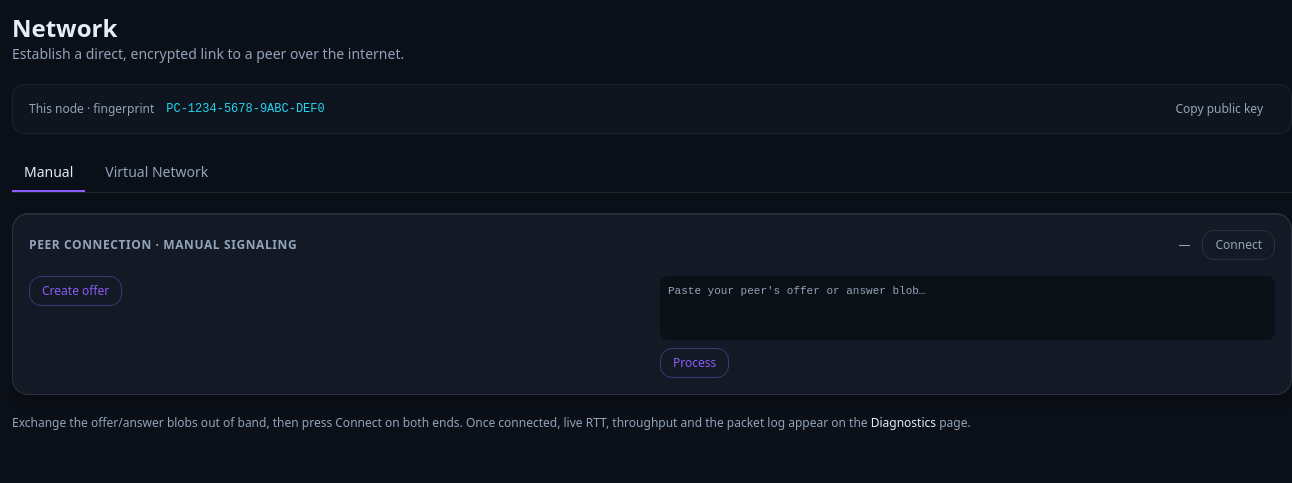
Scenario: Network page › creates an offer and shows the blob
What coordinates should you click on to do the following:
click the button with test id "create-offer-btn"
I would click on:
 (76, 291)
Its box is [29,276,122,306].
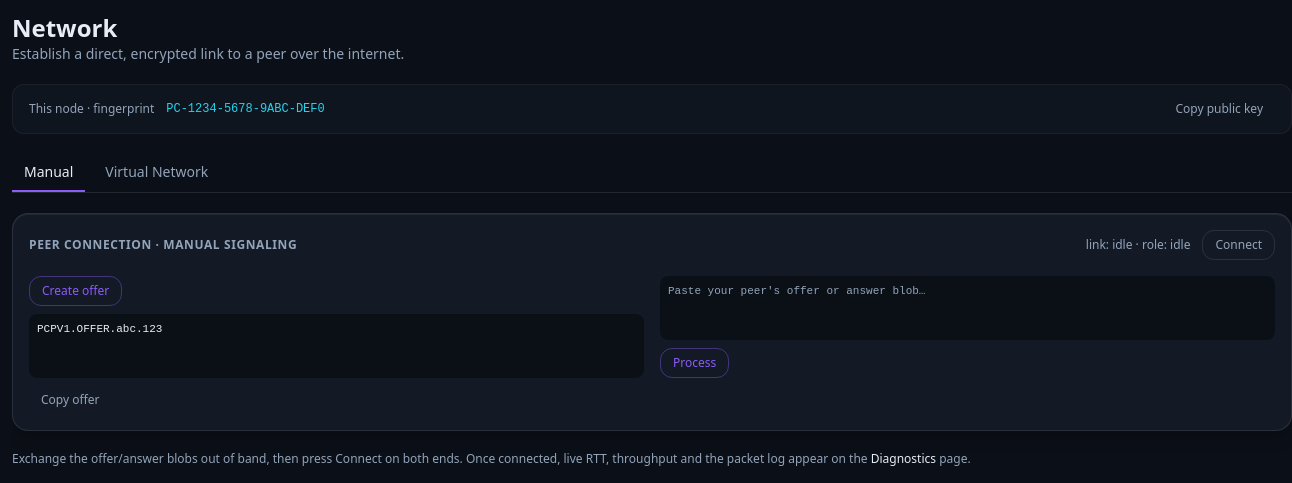
Now the text box with test id "offer-blob" holds "PCPV1.OFFER.abc.123", box [29,314,644,378]
